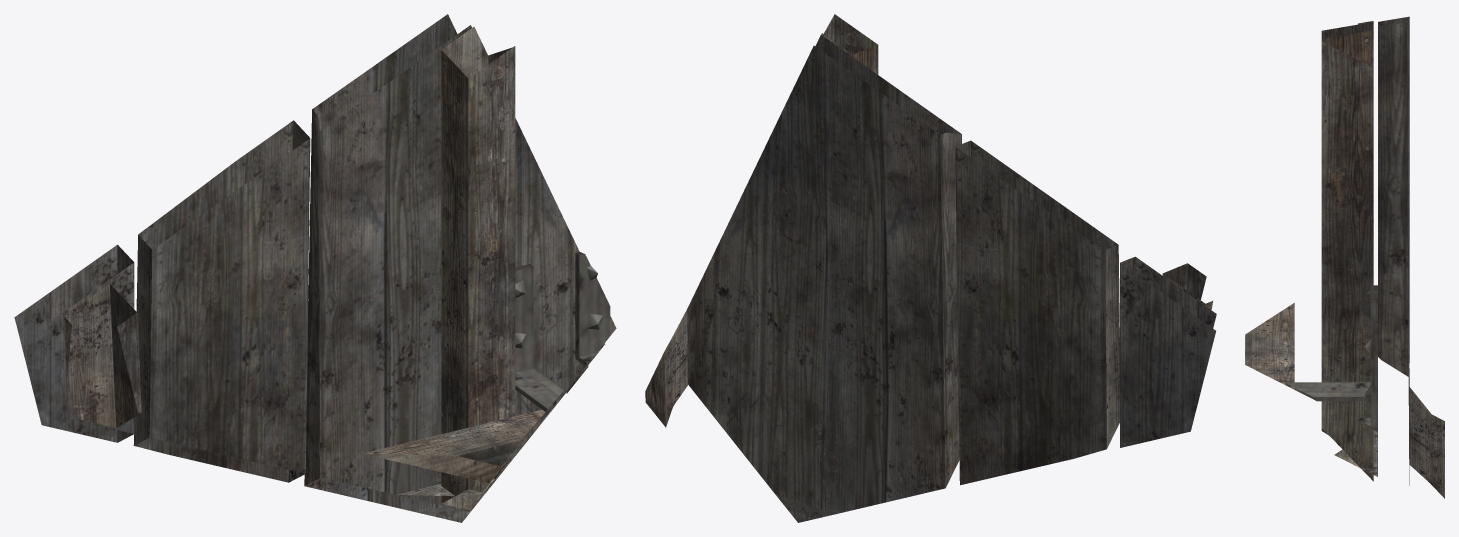
The model's file is Wagon3_15.fbx.
The picture shows the model from 3 angles, left to right: view 1: azimuth 30°, elevation 25°; view 2: azimuth 150°, elevation 25°; view 3: azimuth 270°, elevation 25°; orthographic projection. The views are drawn at different scales.
Parts seen in each view (by area): view 1: SM_Wagon03_DM.015; view 2: SM_Wagon03_DM.015; view 3: SM_Wagon03_DM.015.
Part boxes in pixels (<box>): SM_Wagon03_DM.015: <box>14,14,616,522</box>; SM_Wagon03_DM.015: <box>645,14,1216,522</box>; SM_Wagon03_DM.015: <box>1245,16,1444,498</box>.
Size of the model in its own units: 9450 by 7827 by 2889.
